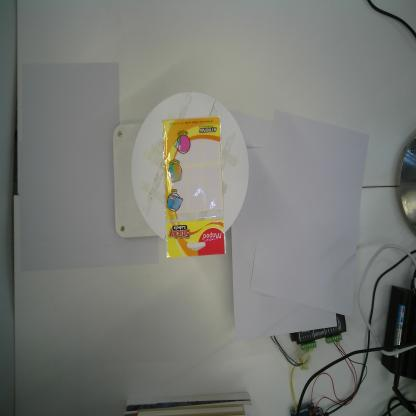Stationery: (160, 113, 228, 262)
